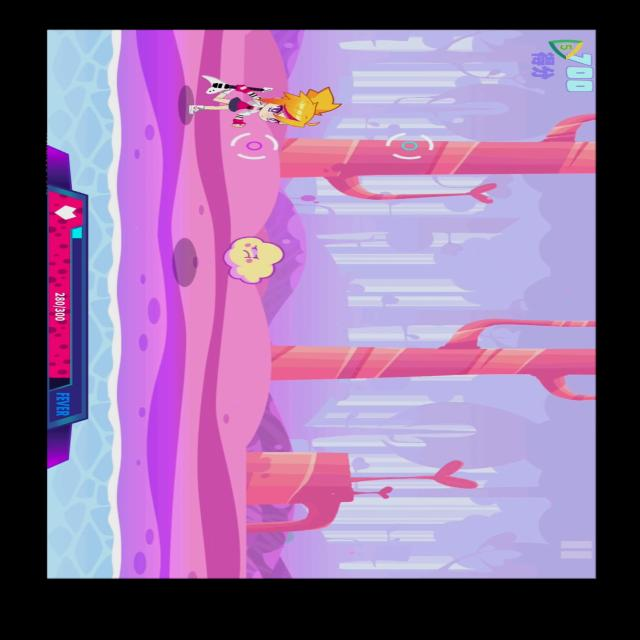yun: (218, 236, 288, 286)
